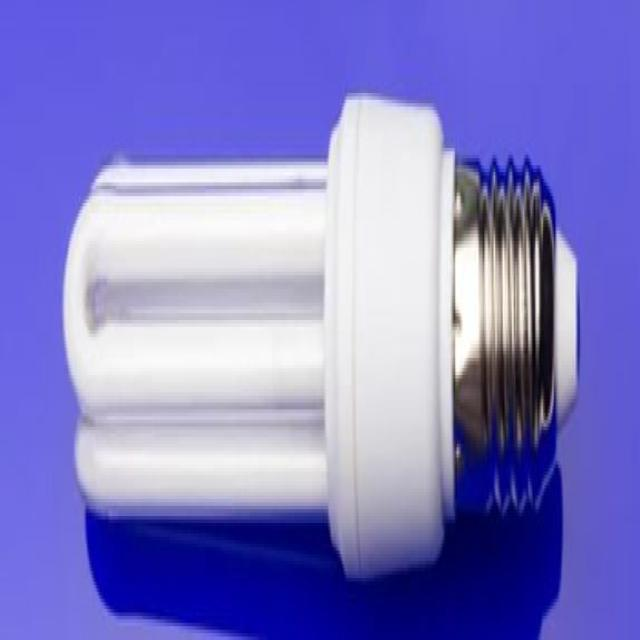electronic: (61, 89, 580, 582)
